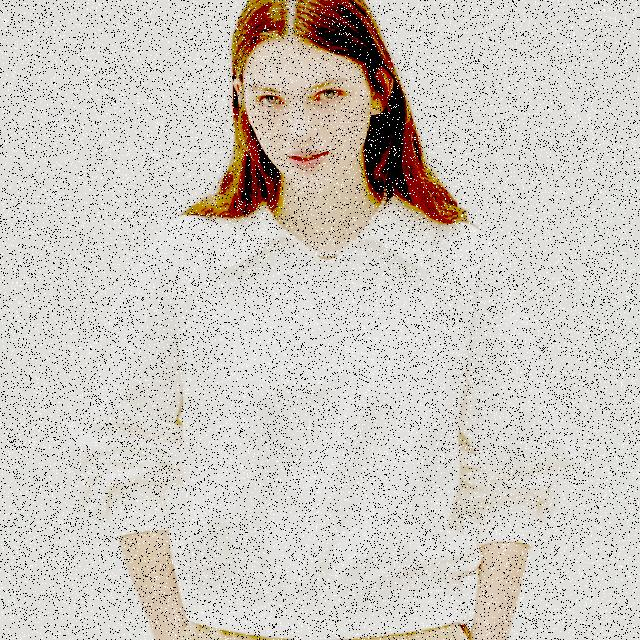Blouse_deep: (75, 181, 572, 629)
